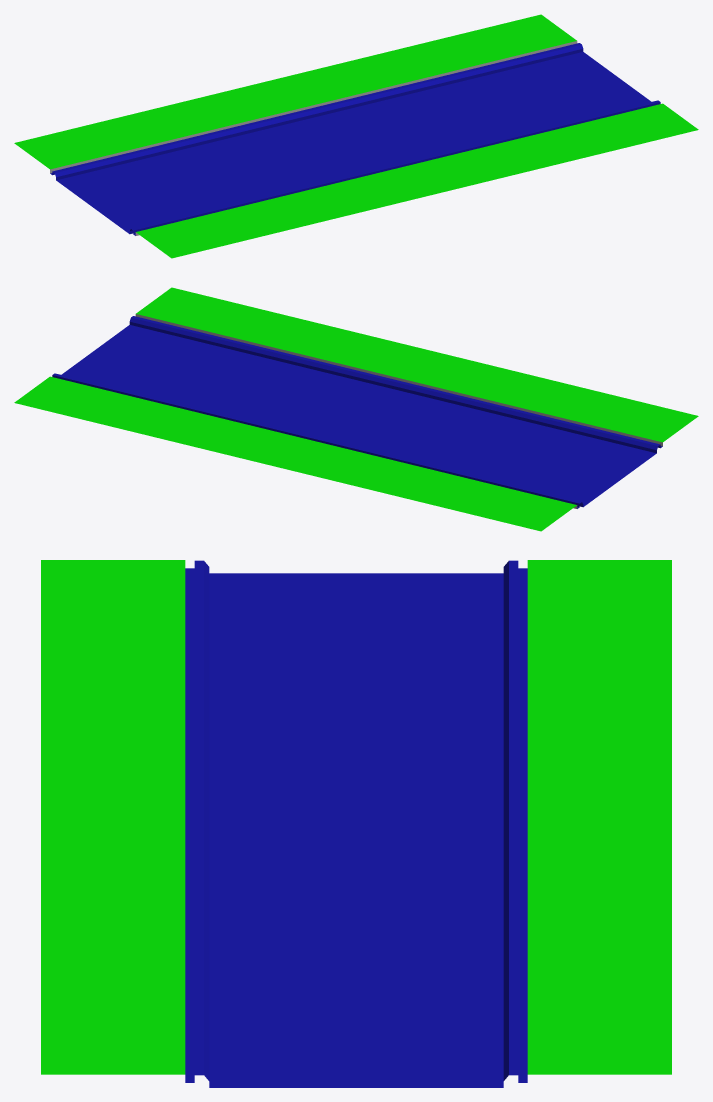
Rendered from Road.fbx.
3 views of the same model, one above another, from view 1: azimuth 30°, elevation 25°; view 2: azimuth 150°, elevation 25°; view 3: azimuth 270°, elevation 25° (orthographic). The views are drawn at different scales.
Visible parts, largest first — view 1: pPlane1; view 2: pPlane1; view 3: pPlane1.
Part boxes in pixels (bbox=[...]): pPlane1: bbox=[14, 14, 698, 258]; pPlane1: bbox=[14, 287, 698, 531]; pPlane1: bbox=[41, 560, 671, 1087].
Bounding box in the file's own units: 24.19 × 0.287 × 12.54.
